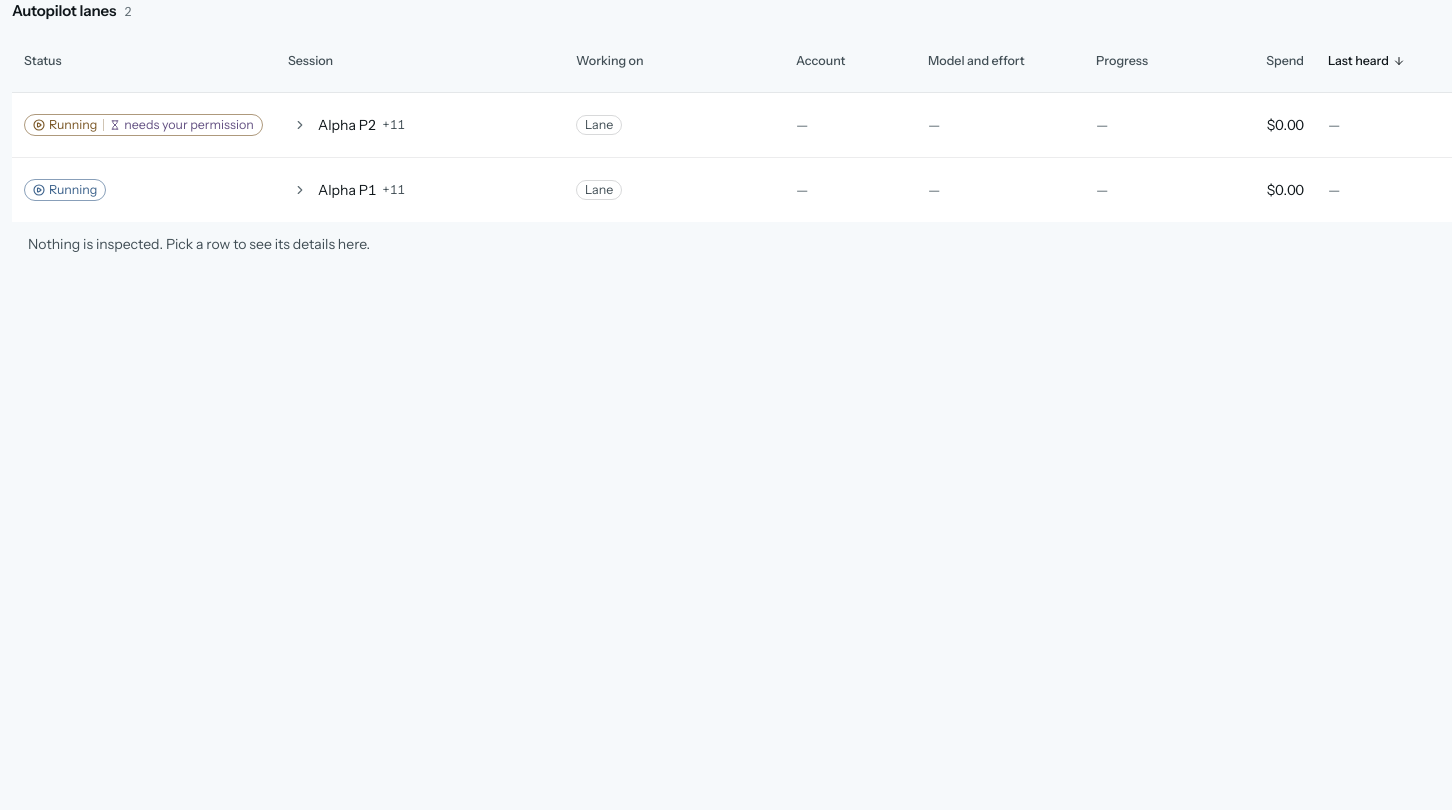
Test: <SessionList> › opens a lane onto its run, and onto Your turn while it waits on you
Click the button named "the rest of this row" next to "Alpha P2" at (300, 125), box [288,103,312,147]
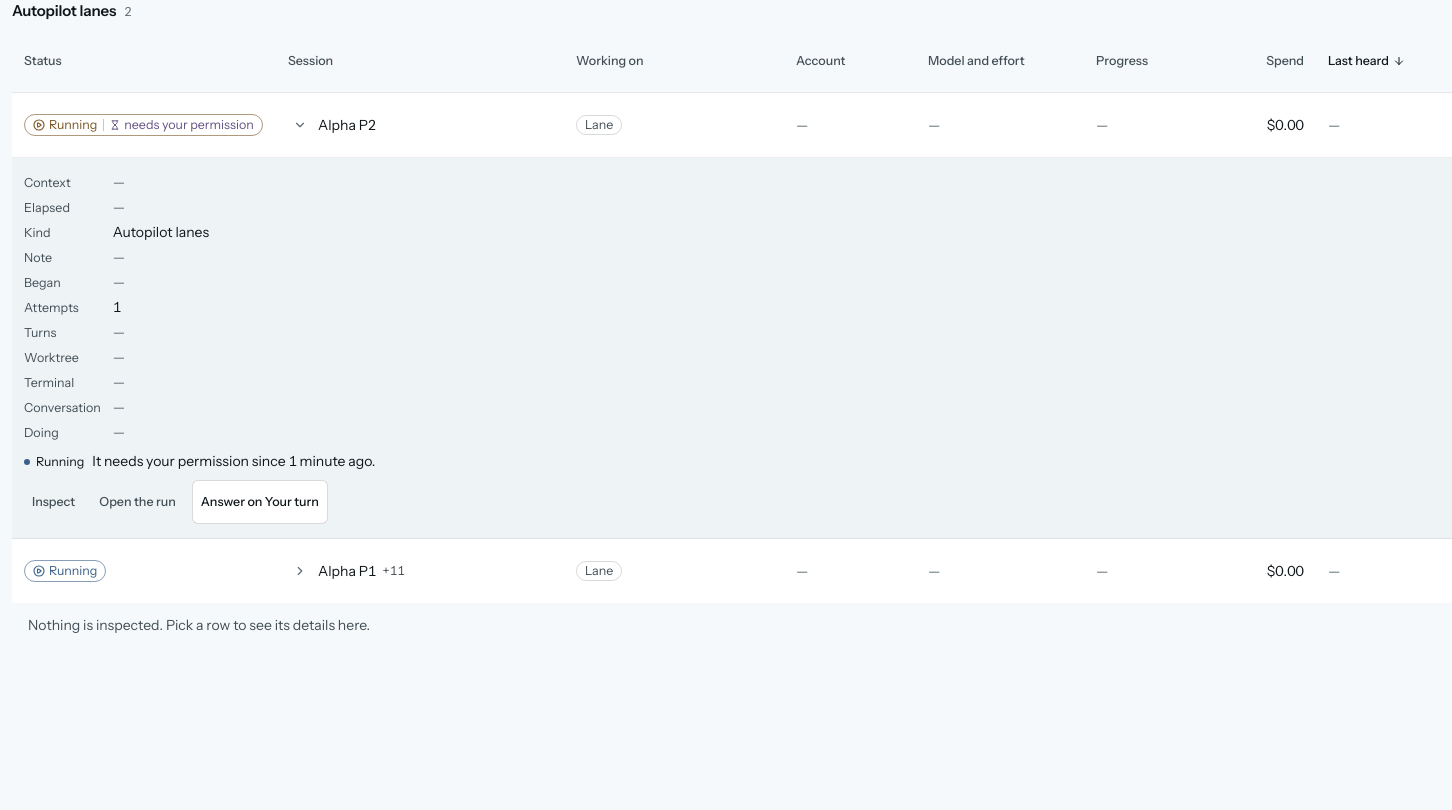
Check: the button named "the rest of this row" next to "Alpha P2" is expanded, box [288,103,312,147]
Check: the element with test id "session-row-detail" is shown, box [24,452,375,524]
Click the button named "the rest of this row" next to "Alpha P1" at (300, 571), box [288,549,312,593]
(page scrolled)
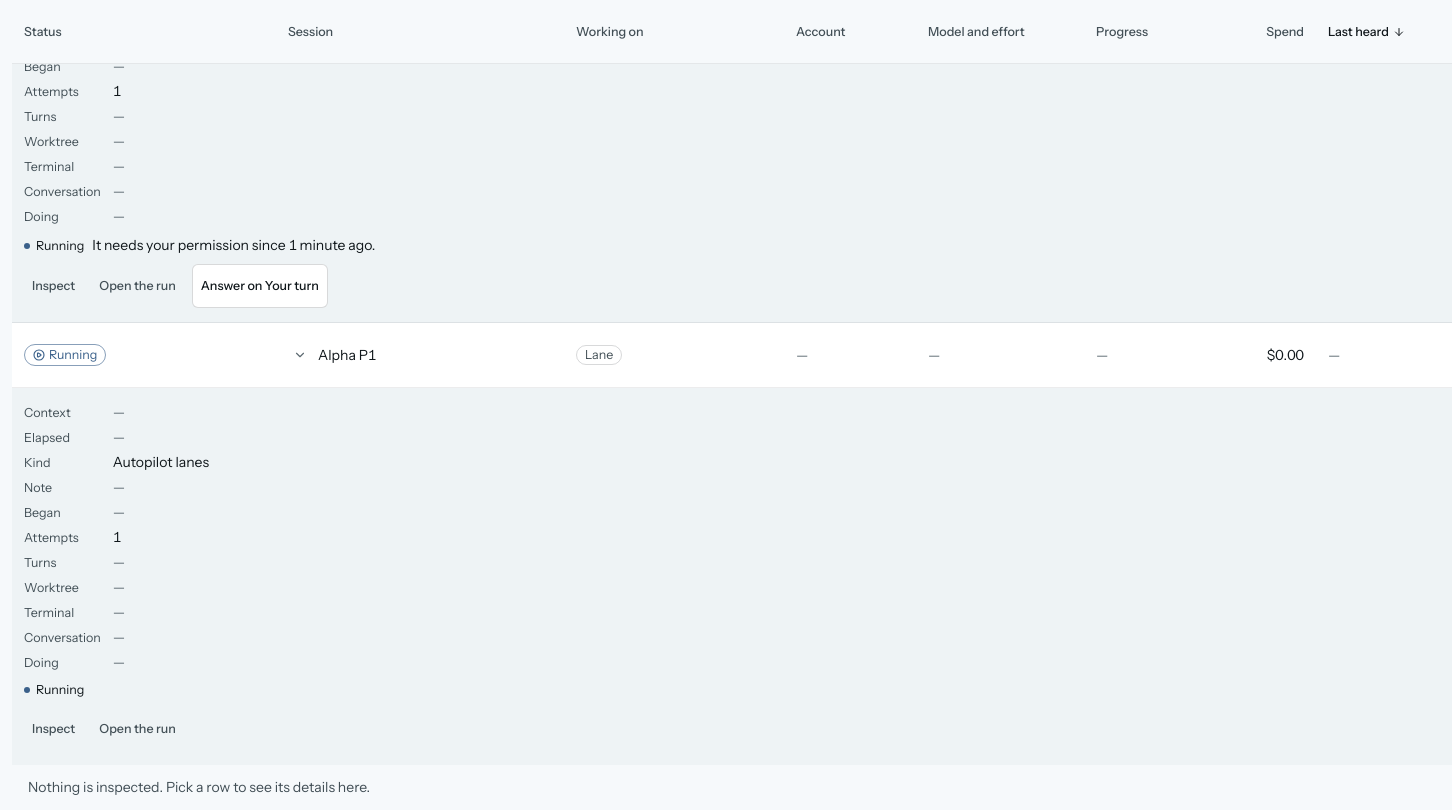
Check: the button named "the rest of this row" is expanded, box [288,333,312,377]
Check: the element with test id "session-row-detail" showing "Running Inspect Open the run" is shown, box [24,682,176,751]
Check: the 2nd link "Open the run" is shown, box [99,721,176,736]
